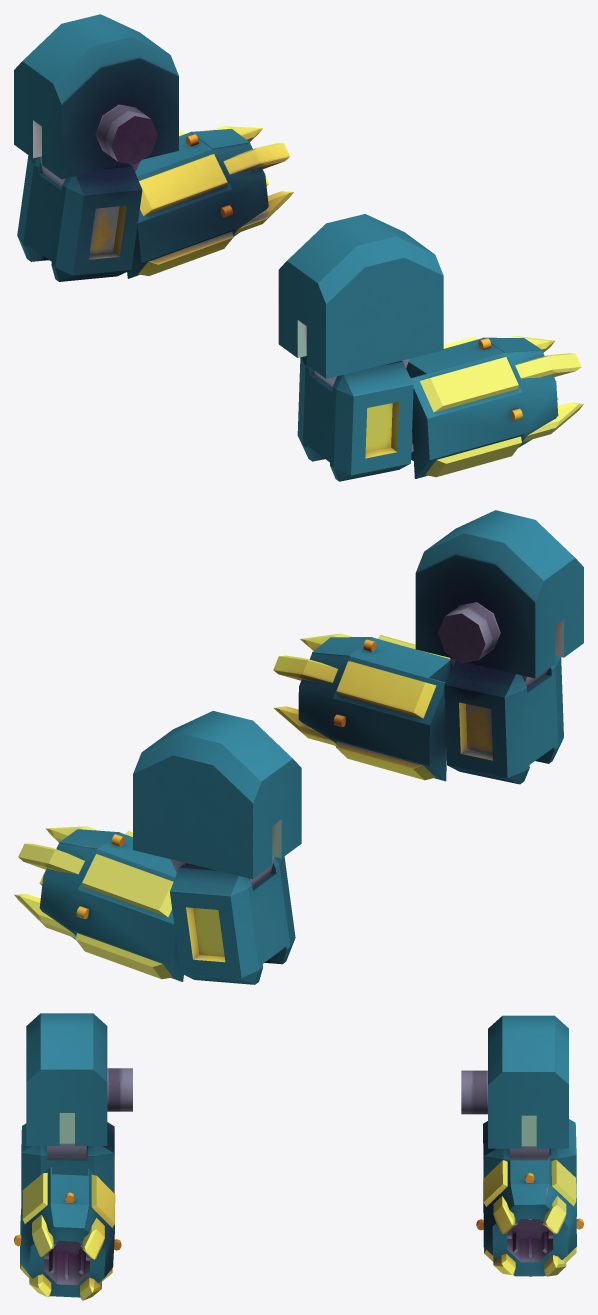
The model's file is Player_Attack_Arm10.obj.
3 views of the same model, one above another, from view 1: azimuth 30°, elevation 25°; view 2: azimuth 150°, elevation 25°; view 3: azimuth 270°, elevation 25° (orthographic). The views are drawn at different scales.
Parts seen in each view (by area): view 1: Object003, Object005, Object001, Object007, Object006, Object002; view 2: Object003, Object005, Object001, Object007, Object006, Object002; view 3: Object005, Object003, Object001, Object007, Object002, Object006.
Boxes of the visible parts, x1,y1,x2,y2 form: Object003: [278, 214, 443, 378]; Object005: [14, 14, 178, 179]; Object001: [406, 336, 583, 478]; Object007: [127, 126, 293, 278]; Object006: [17, 155, 142, 281]; Object002: [297, 356, 413, 481]; Object003: [415, 510, 583, 678]; Object005: [133, 711, 301, 879]; Object001: [273, 633, 452, 781]; Object007: [14, 826, 183, 981]; Object006: [170, 856, 295, 984]; Object002: [444, 655, 563, 784]; Object005: [461, 1015, 568, 1148]; Object003: [26, 1013, 132, 1145]; Object001: [14, 1167, 121, 1300]; Object007: [476, 1155, 583, 1276]; Object002: [21, 1122, 114, 1201]; Object006: [483, 1119, 576, 1216].
Bounding box in the file's own units: 38.47 × 35.3 × 83.71.
1 material, 1 textured.
